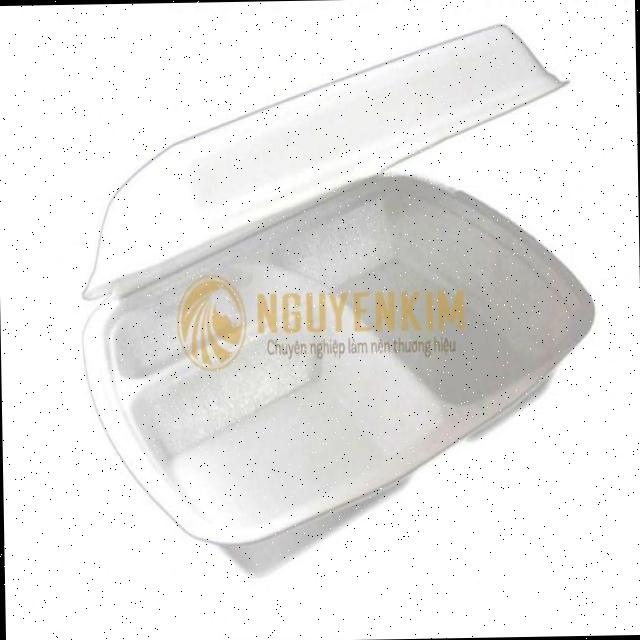styrofoam: (73, 20, 600, 568)
